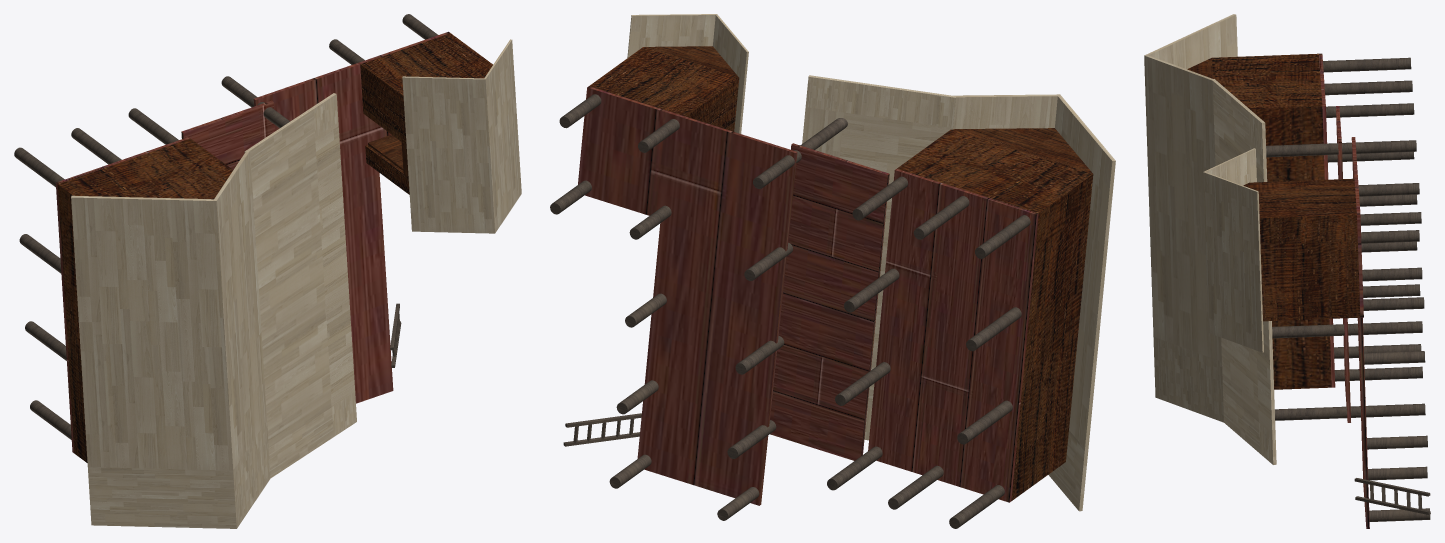
Rendered from homekorat.glb.
The picture shows the model from 3 angles, left to right: view 1: azimuth 30°, elevation 25°; view 2: azimuth 150°, elevation 25°; view 3: azimuth 270°, elevation 25°; orthographic projection. The views are drawn at different scales.
Visible parts, largest first — view 1: Object_11_/test1_0, Object_54_/wood Floor_0, Object_1_/bubinga_0, Object_12_/Veneer- Walnut 01_0; view 2: Object_54_/wood Floor_0, Object_1_/bubinga_0, Object_11_/test1_0, Object_12_/Veneer- Walnut 01_0; view 3: Object_11_/test1_0, Object_1_/bubinga_0, Object_12_/Veneer- Walnut 01_0, Object_54_/wood Floor_0.
Boxes of the visible parts, bbox=[...] form: Object_11_/test1_0: bbox=[71, 39, 521, 528]; Object_54_/wood Floor_0: bbox=[55, 31, 449, 452]; Object_1_/bubinga_0: bbox=[57, 33, 492, 462]; Object_12_/Veneer- Walnut 01_0: bbox=[14, 14, 438, 439]; Object_54_/wood Floor_0: bbox=[578, 86, 1038, 505]; Object_1_/bubinga_0: bbox=[589, 46, 1093, 500]; Object_11_/test1_0: bbox=[627, 14, 1115, 511]; Object_12_/Veneer- Walnut 01_0: bbox=[550, 94, 1030, 528]; Object_11_/test1_0: bbox=[1144, 14, 1276, 464]; Object_1_/bubinga_0: bbox=[1187, 53, 1360, 389]; Object_12_/Veneer- Walnut 01_0: bbox=[1266, 57, 1430, 521]; Object_54_/wood Floor_0: bbox=[1319, 53, 1369, 528].
Bounding box in the file's own units: 14.67 × 11.65 × 8.04.
5 materials, 4 textured.
